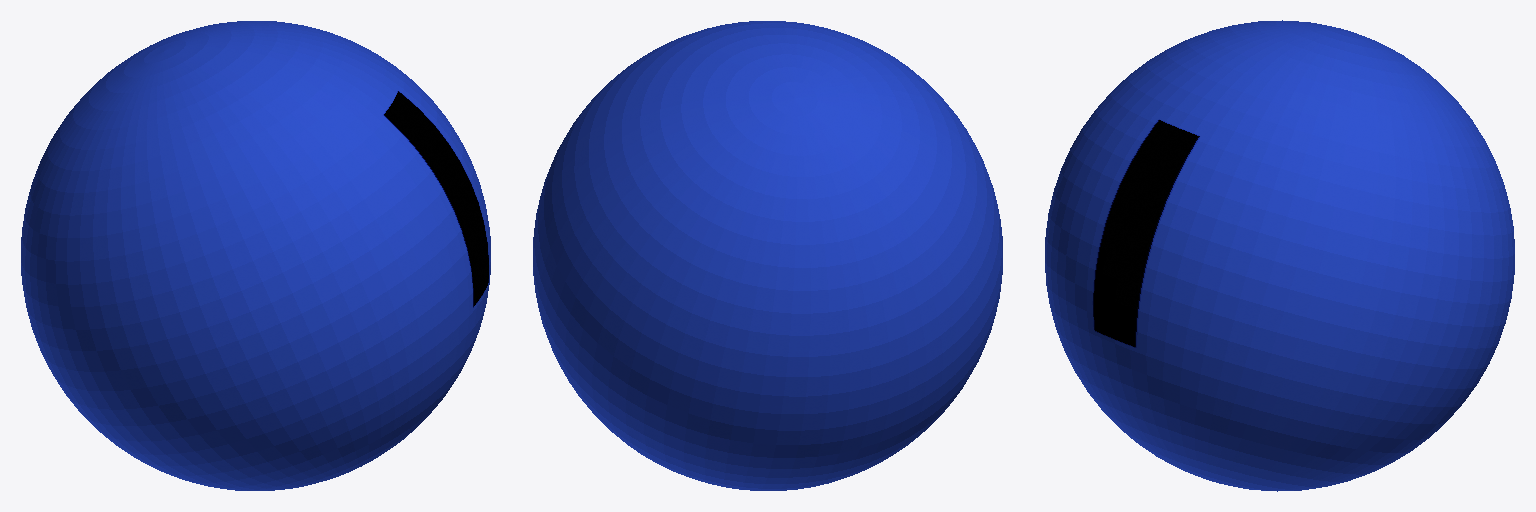
3 renders of one model, left to right at view 1: azimuth 30°, elevation 25°; view 2: azimuth 150°, elevation 25°; view 3: azimuth 270°, elevation 25°, orthographic.
Visible parts, largest first — view 1: Sphere; view 2: Sphere; view 3: Sphere.
Part boxes in pixels (left/top/right/bottom): Sphere: left=21, top=21, right=490, bottom=490; Sphere: left=533, top=21, right=1002, bottom=490; Sphere: left=1045, top=20, right=1514, bottom=491.
Bounding box in the file's own units: 2 × 2 × 2.
Materials: 1 (1 with a texture image).